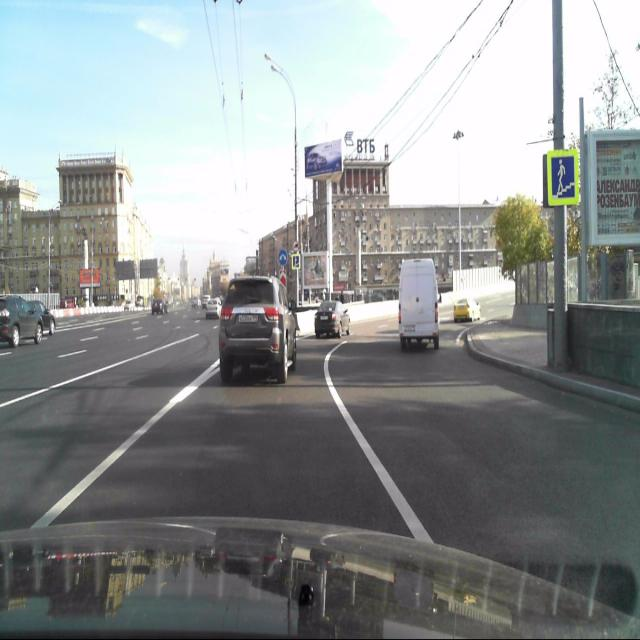road sign: (547, 148, 579, 204), (292, 253, 300, 269)
